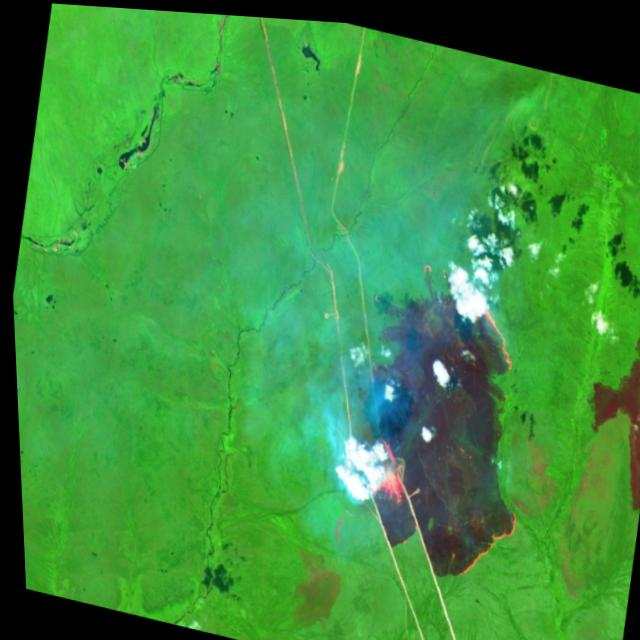fire: (326, 242, 557, 587)
